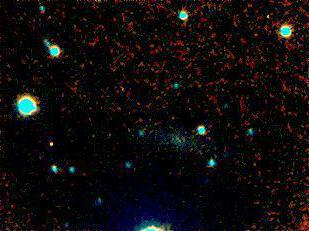star: (34, 132, 64, 162)
